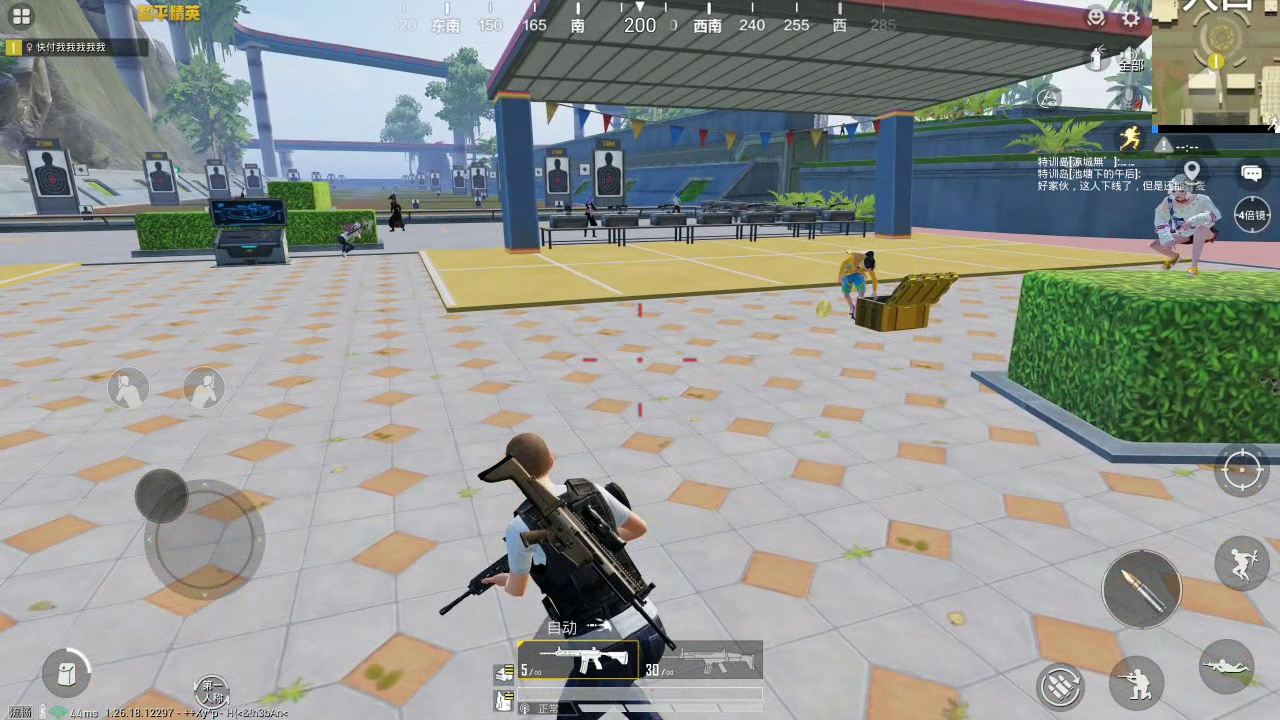enemy: (1150, 172, 1217, 272), (838, 246, 883, 312), (340, 218, 362, 255), (385, 194, 406, 232), (581, 197, 600, 237), (669, 190, 683, 214)
